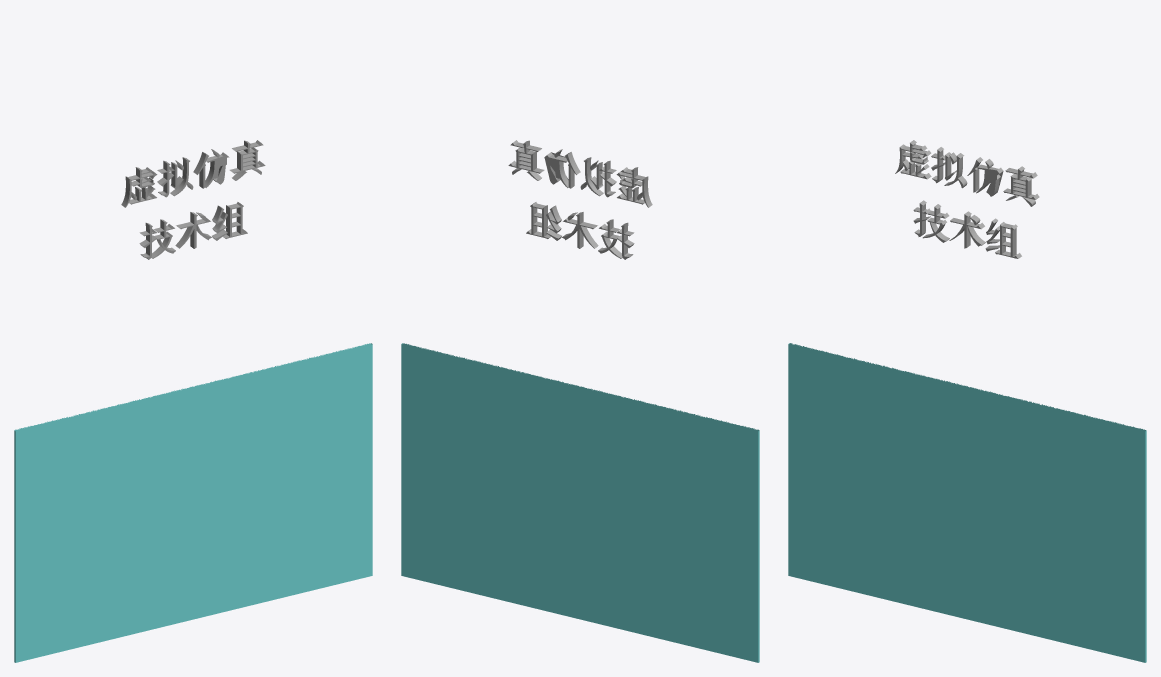
File: qiang_shuzizu.fbx
3 views of the same model, side by side, from view 1: azimuth 30°, elevation 25°; view 2: azimuth 150°, elevation 25°; view 3: azimuth 330°, elevation 25° (orthographic).
Parts seen in each view (by area): view 1: pCube2; view 2: pCube2; view 3: pCube2.
Part boxes in pixels (<box>): pCube2: <box>14,140,372,662</box>; pCube2: <box>401,140,759,662</box>; pCube2: <box>788,140,1146,662</box>.
Size of the model in its own units: 120 by 180 by 2.32.
